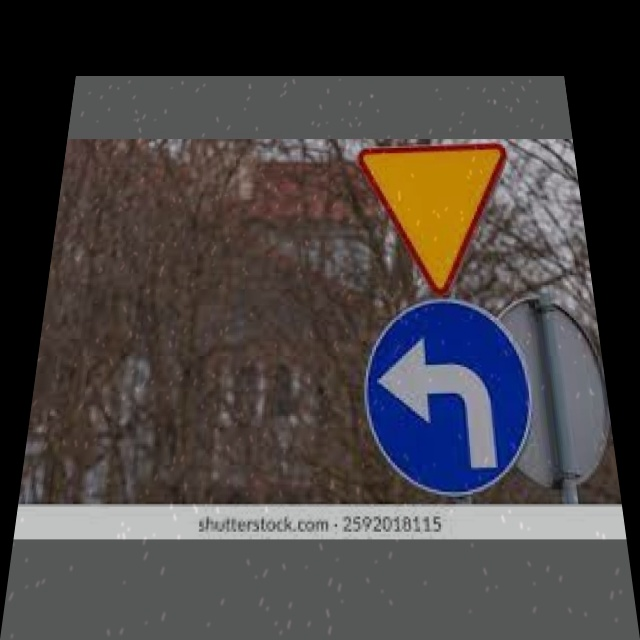Compulsory_Turn_Left_Ahead: (362, 301, 536, 491)
